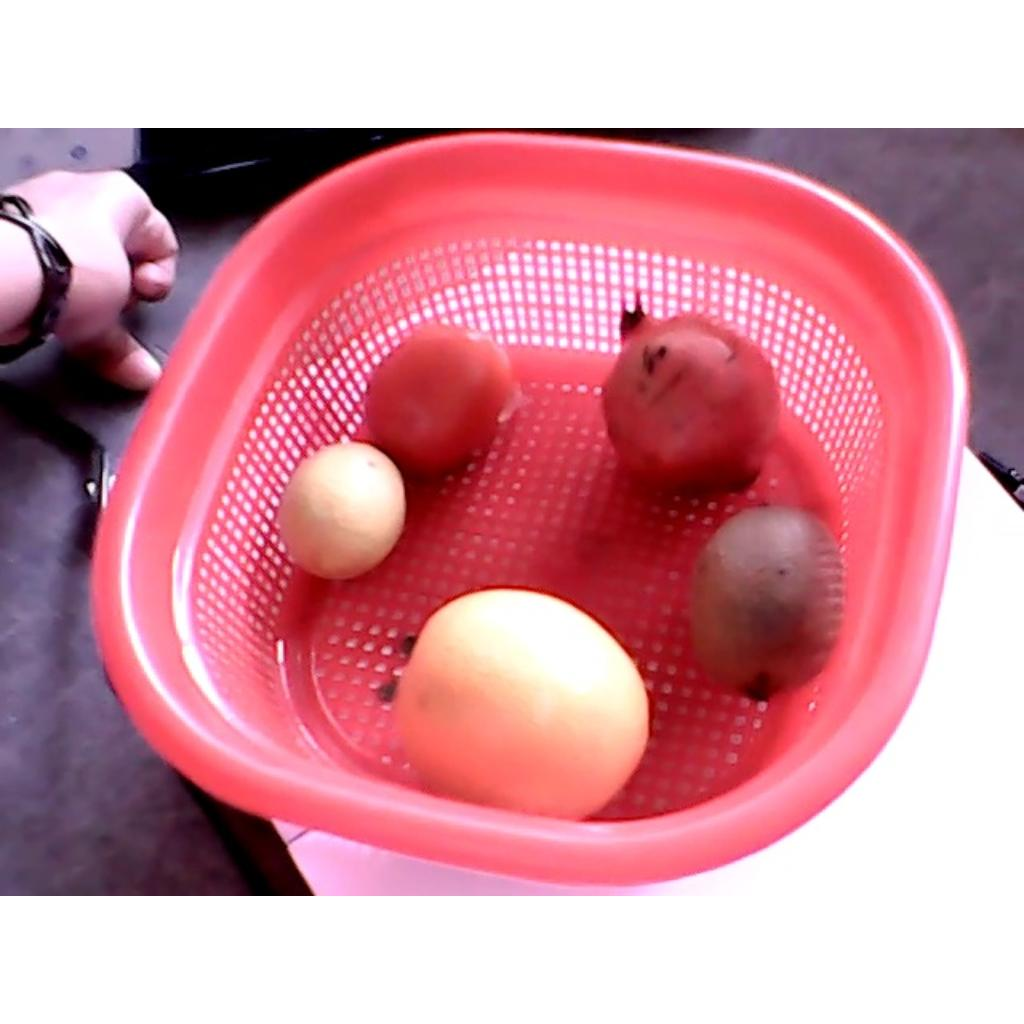kiwi: (690, 508, 846, 701)
lemon: (277, 444, 406, 579)
orange: (377, 587, 648, 821)
pomegranate: (602, 294, 782, 497)
tomato: (367, 324, 516, 480)
